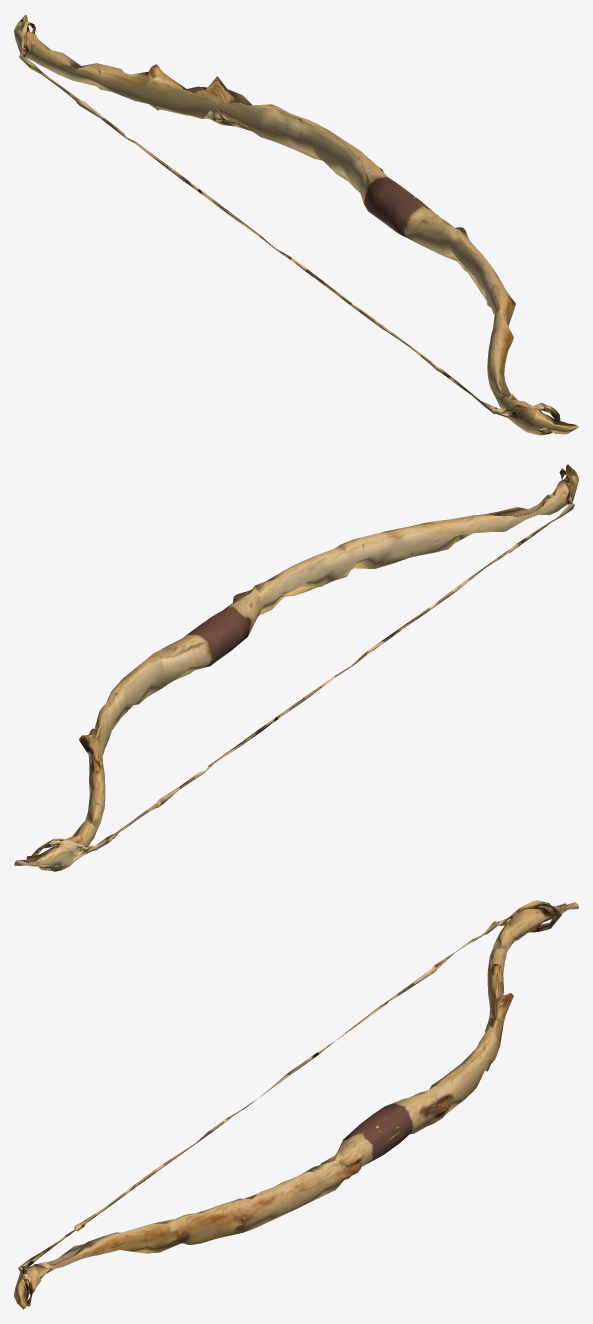
Rendered from 1122_bow.glb.
The picture shows the model from 3 angles, top to bottom: view 1: azimuth 30°, elevation 25°; view 2: azimuth 150°, elevation 25°; view 3: azimuth 330°, elevation 25°; orthographic projection.
Visible parts, largest first — view 1: Model; view 2: Model; view 3: Model.
Part boxes in pixels (box(x1,y1,x2,y2)): Model: box(14, 14, 578, 435); Model: box(14, 464, 578, 871); Model: box(14, 900, 578, 1309).
Bounding box in the file's own units: 0.1661 × 0.0438 × 1.
1 material, 1 textured.
